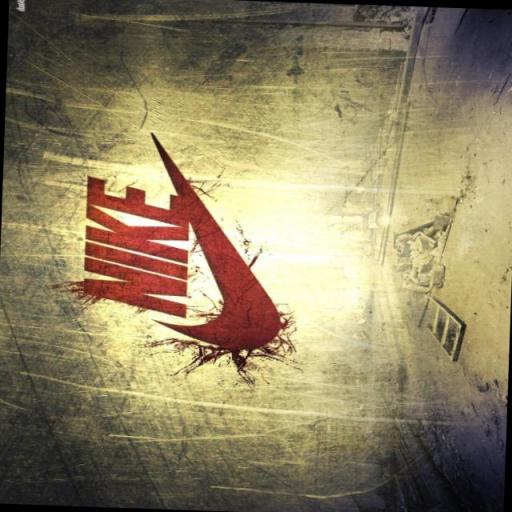Nike: (182, 180, 287, 350), (80, 175, 196, 316)
